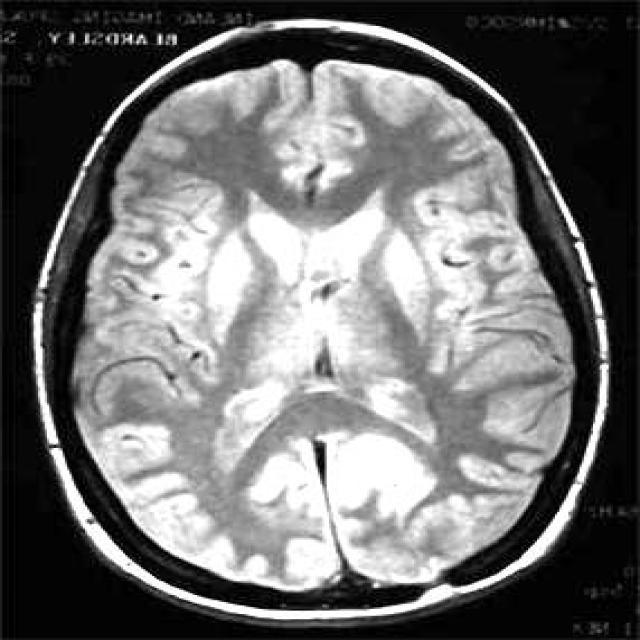brain tumor: (322, 434, 436, 517)
